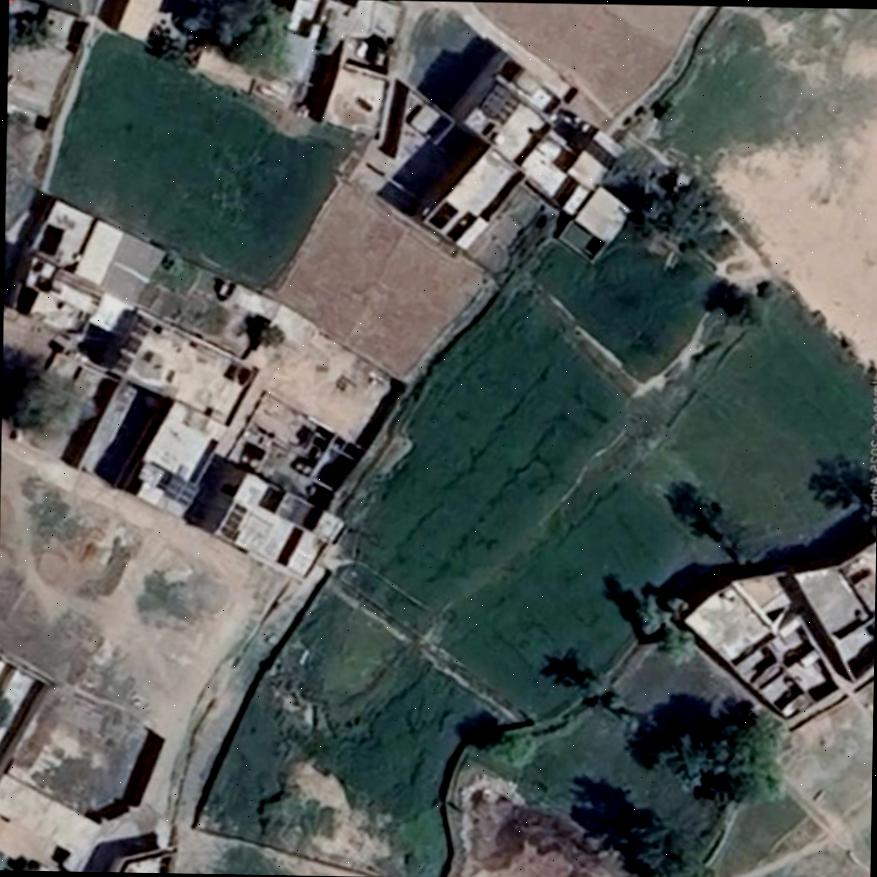Solarpanel: (165, 472, 196, 506)
